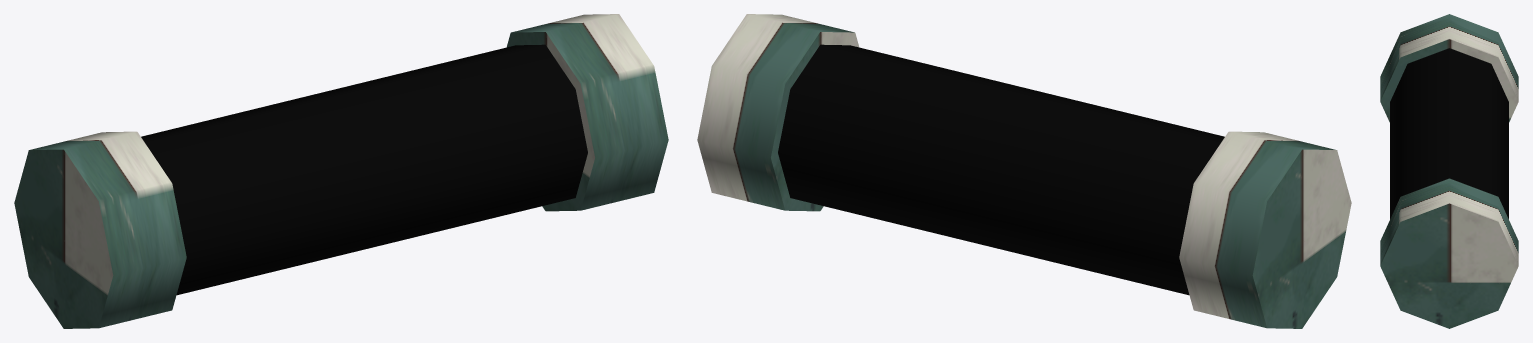
File: fuse.fbx
3 renders of one model, left to right at view 1: azimuth 30°, elevation 25°; view 2: azimuth 150°, elevation 25°; view 3: azimuth 270°, elevation 25°, orthographic. The views are drawn at different scales.
Parts seen in each view (by area): view 1: fuse; view 2: fuse; view 3: fuse.
Boxes of the visible parts, x1,y1,x2,y2 form: fuse: [14, 14, 668, 328]; fuse: [697, 14, 1351, 328]; fuse: [1380, 14, 1518, 328].
Size of the model in its own units: 0.068 by 0.021 by 0.021.
